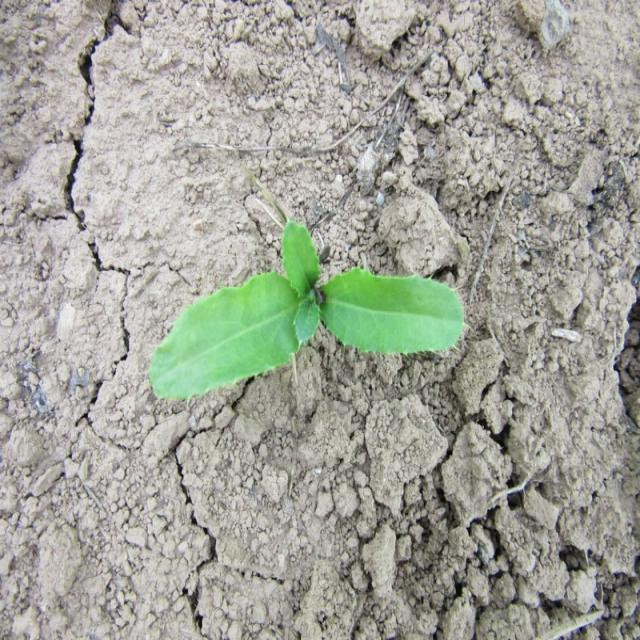field_thistle: (148, 216, 466, 424)
